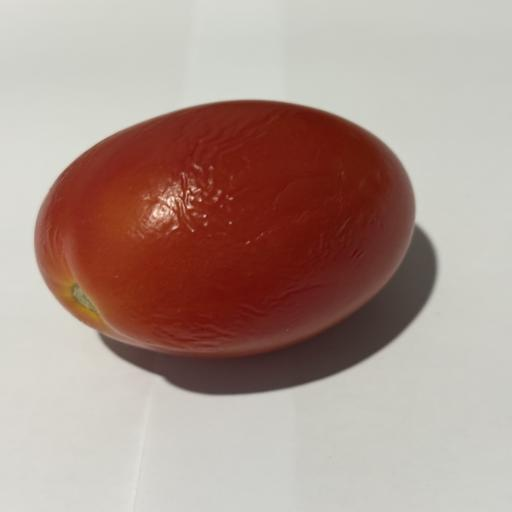spoiled: (35, 101, 414, 357)
